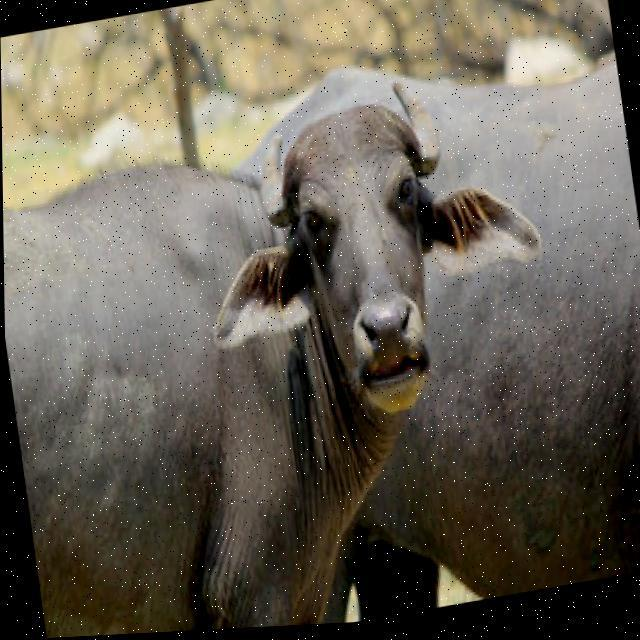Buffalo: (1, 53, 585, 640)
